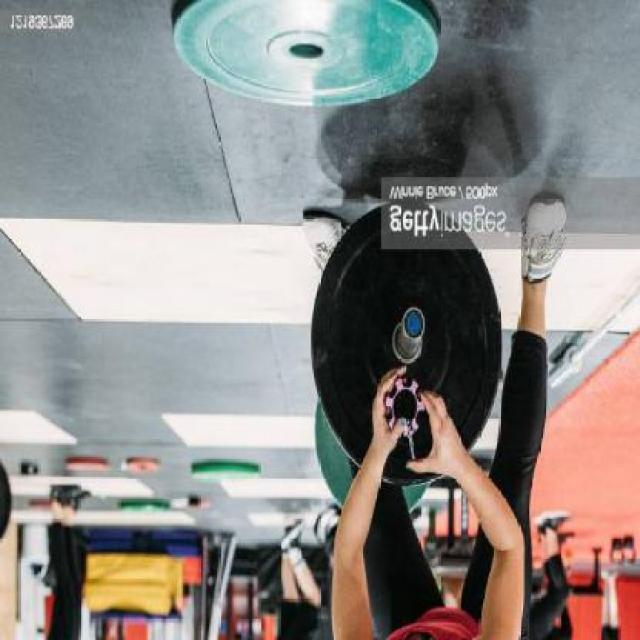Barbell: (394, 302, 430, 347)
